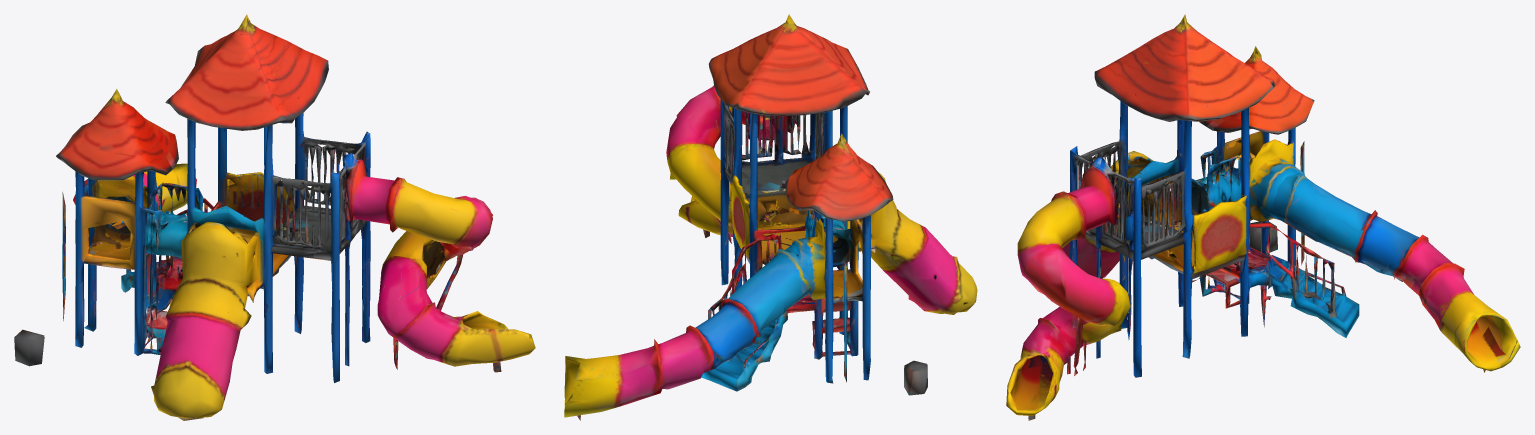
The model's file is juegos.obj.
3 views of the same model, side by side, from view 1: azimuth 30°, elevation 25°; view 2: azimuth 150°, elevation 25°; view 3: azimuth 270°, elevation 25° (orthographic). The views are drawn at different scales.
Parts seen in each view (by area): view 1: juegos_infantiles_1110085106_texture; view 2: juegos_infantiles_1110085106_texture; view 3: juegos_infantiles_1110085106_texture.
Part boxes in pixels (x1=…): juegos_infantiles_1110085106_texture: x1=14, y1=14, x2=535, y2=420; juegos_infantiles_1110085106_texture: x1=564, y1=14, x2=977, y2=420; juegos_infantiles_1110085106_texture: x1=1006, y1=14, x2=1520, y2=420.
Size of the model in its own units: 35.64 by 30.11 by 42.92.
Materials: 1 (1 with a texture image).
